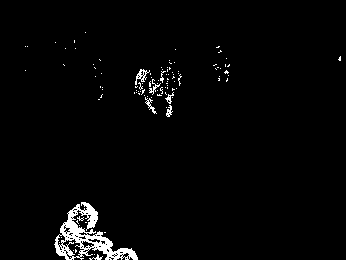person: (53, 202, 112, 258), (157, 61, 182, 118), (133, 68, 160, 115)
